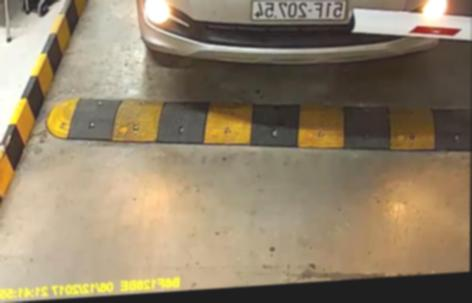License_Plate: (245, 0, 349, 30)
